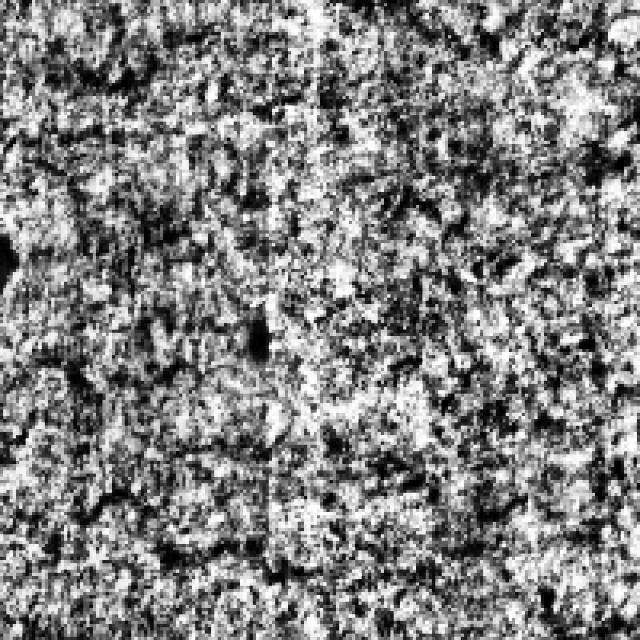Pitted_Surface: (19, 419, 525, 586)
